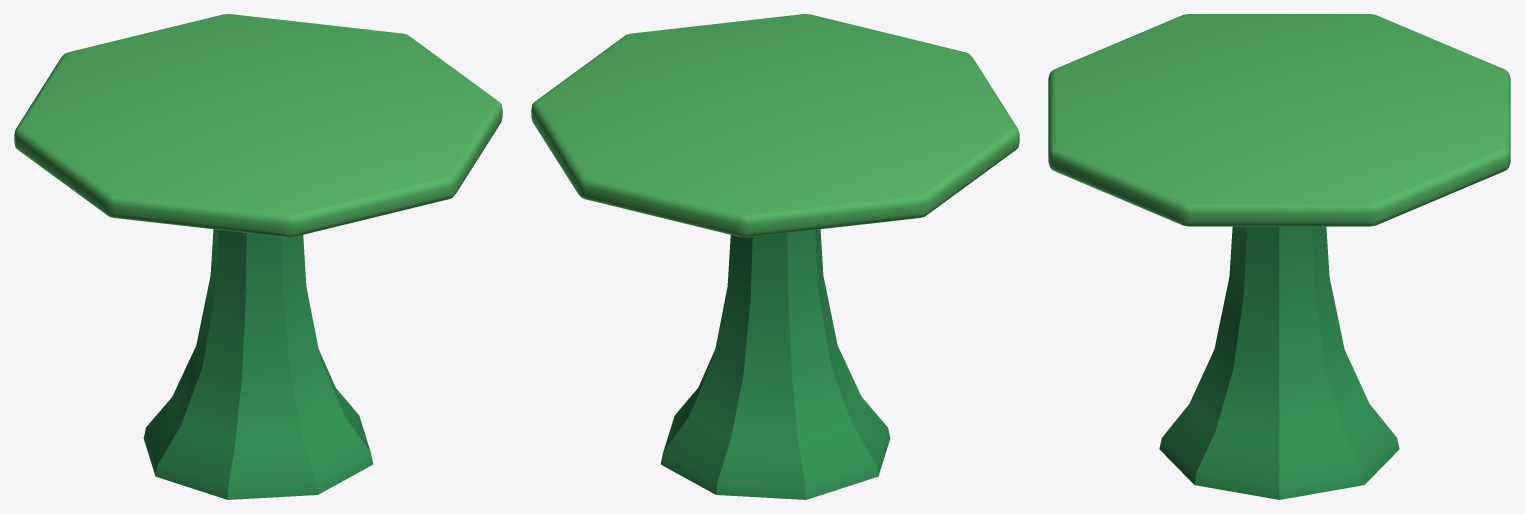
The model's file is mesa_jantar_octogonal_verde.glb.
3 views of the same model, side by side, from view 1: azimuth 30°, elevation 25°; view 2: azimuth 150°, elevation 25°; view 3: azimuth 270°, elevation 25° (orthographic).
Parts seen in each view (by area): view 1: mesa_jantar_octogonal_verde; view 2: mesa_jantar_octogonal_verde; view 3: mesa_jantar_octogonal_verde.
Part boxes in pixels (bbox=[...]): mesa_jantar_octogonal_verde: bbox=[14, 14, 502, 499]; mesa_jantar_octogonal_verde: bbox=[531, 14, 1019, 499]; mesa_jantar_octogonal_verde: bbox=[1048, 14, 1510, 499].
Size of the model in its own units: 0.9239 by 0.75 by 0.9239.
1 material, 1 textured.
